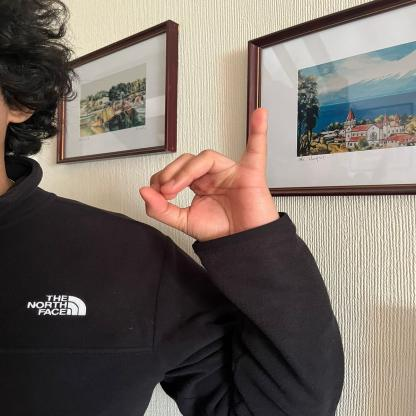D: (137, 101, 289, 241)
